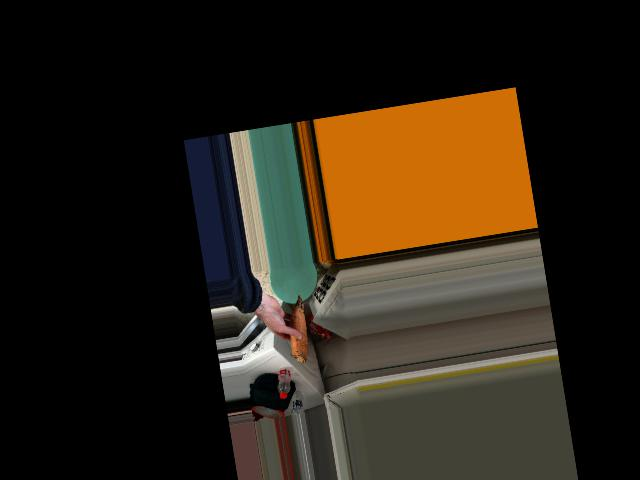sweet_potato: (282, 297, 311, 363)
